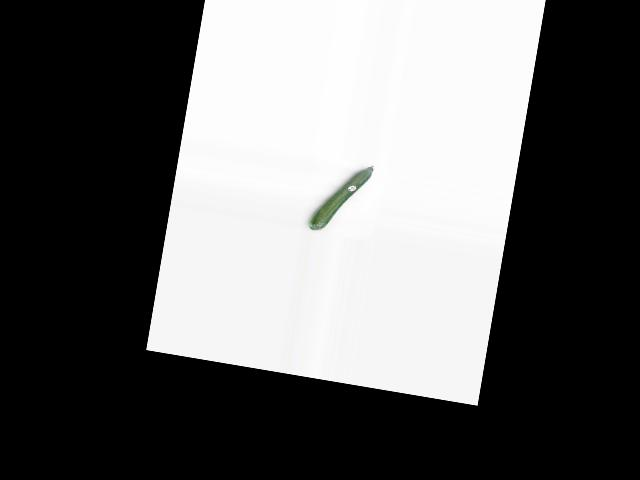cucumber: (308, 156, 374, 237)
